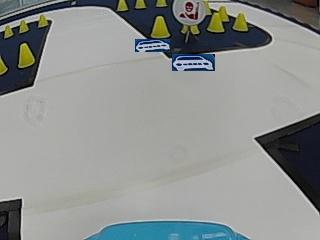evil: (172, 0, 206, 24)
